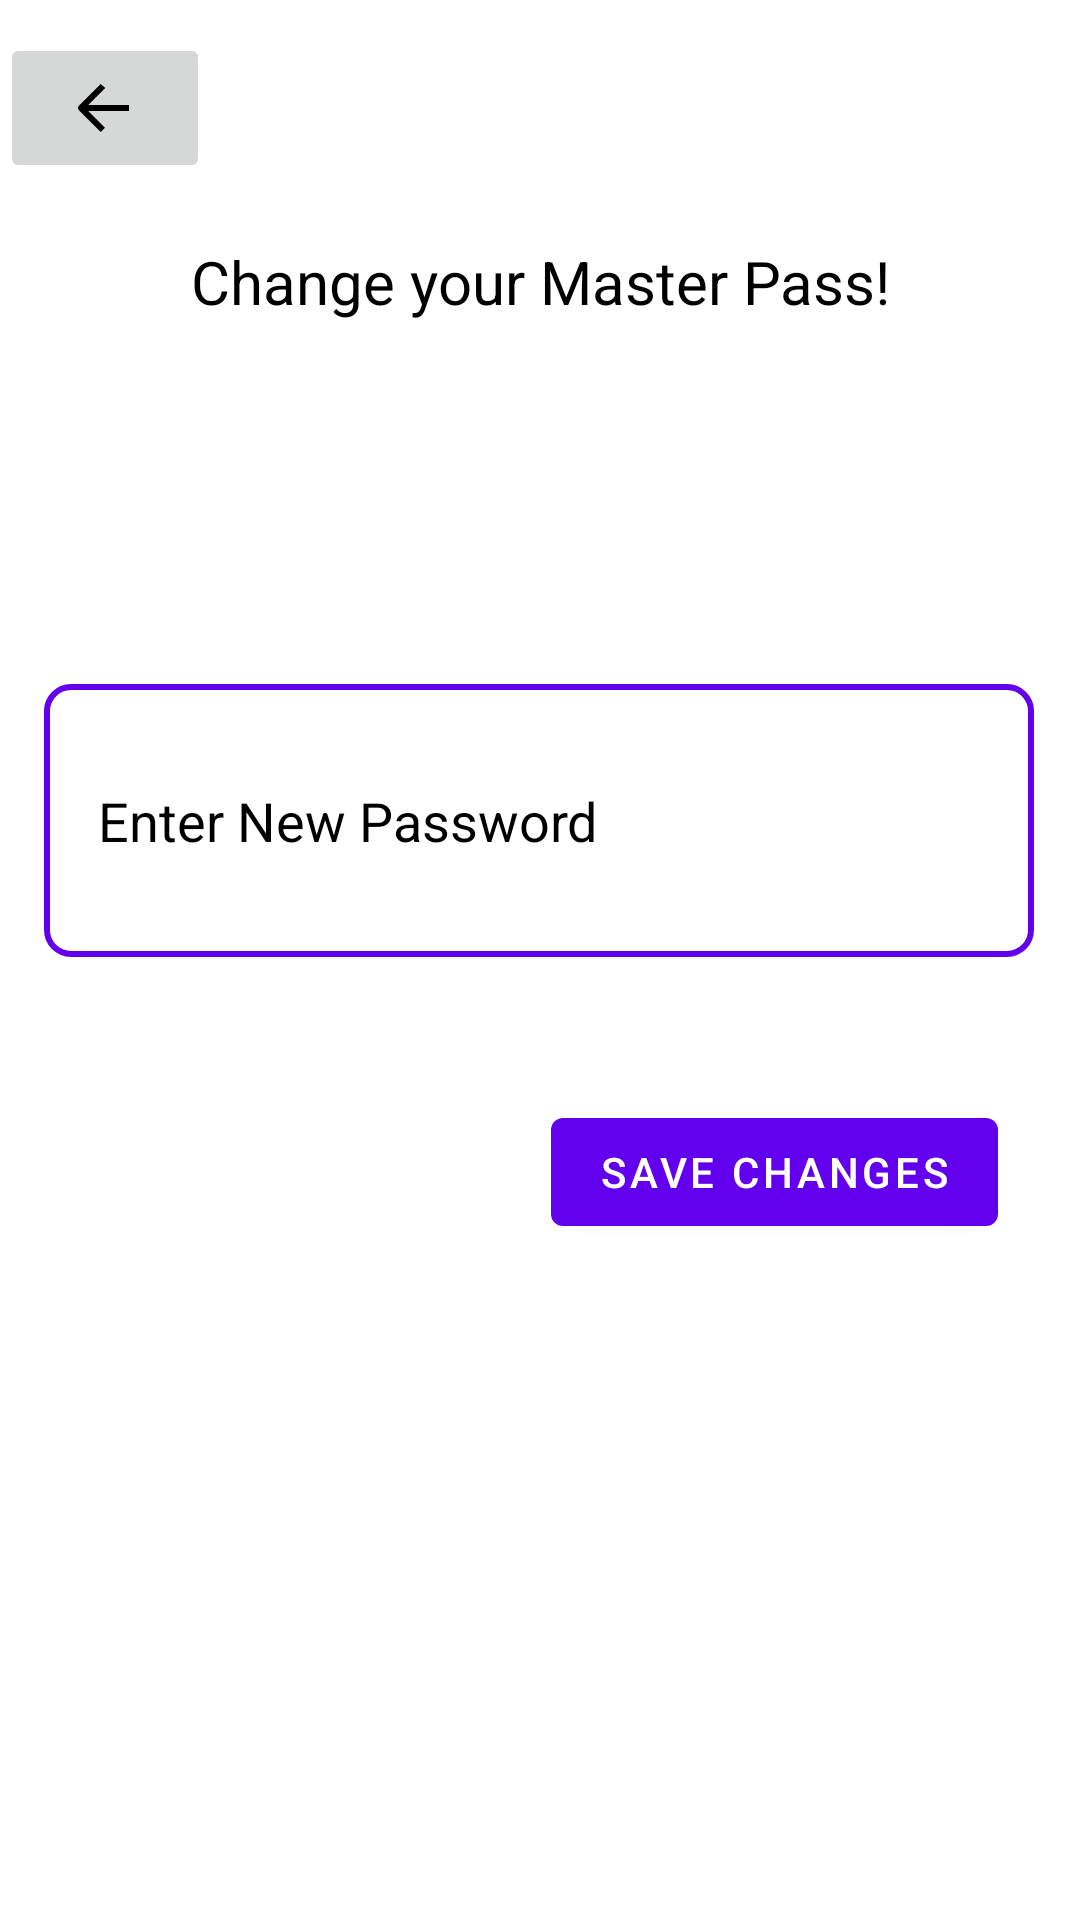

Icon bounding boxes for this 1080 × 1920 phone screenshot, format Rect(x1, y1, x2, y2):
back: Rect(12, 51, 198, 165)
